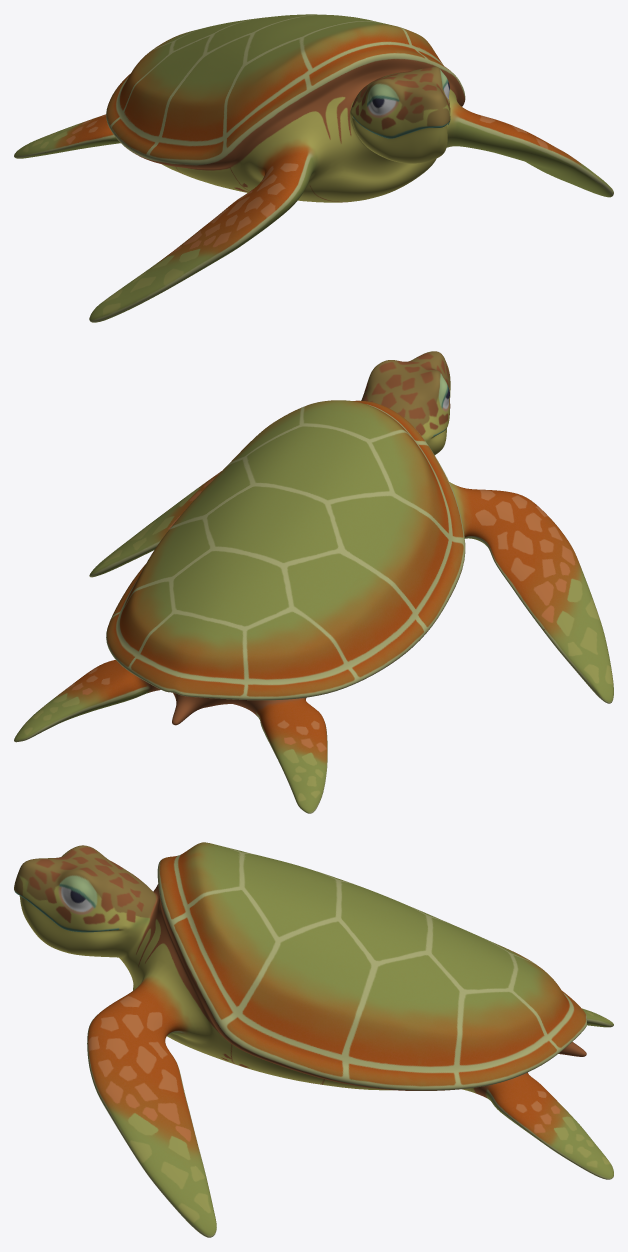
Rendered from tortuga.glb.
The picture shows the model from 3 angles, top to bottom: view 1: azimuth 30°, elevation 25°; view 2: azimuth 150°, elevation 25°; view 3: azimuth 270°, elevation 25°; orthographic projection. The views are drawn at different scales.
Visible parts, largest first — view 1: sea_turtle.1_1; view 2: sea_turtle.1_1; view 3: sea_turtle.1_1.
Boxes of the visible parts, left/top/right/bottom form: sea_turtle.1_1: left=14, top=14, right=613, bottom=322; sea_turtle.1_1: left=14, top=351, right=613, bottom=813; sea_turtle.1_1: left=14, top=842, right=613, bottom=1237.
Size of the model in its own units: 0.117 by 0.0499 by 0.1093.
Materials: 1 (1 with a texture image).
